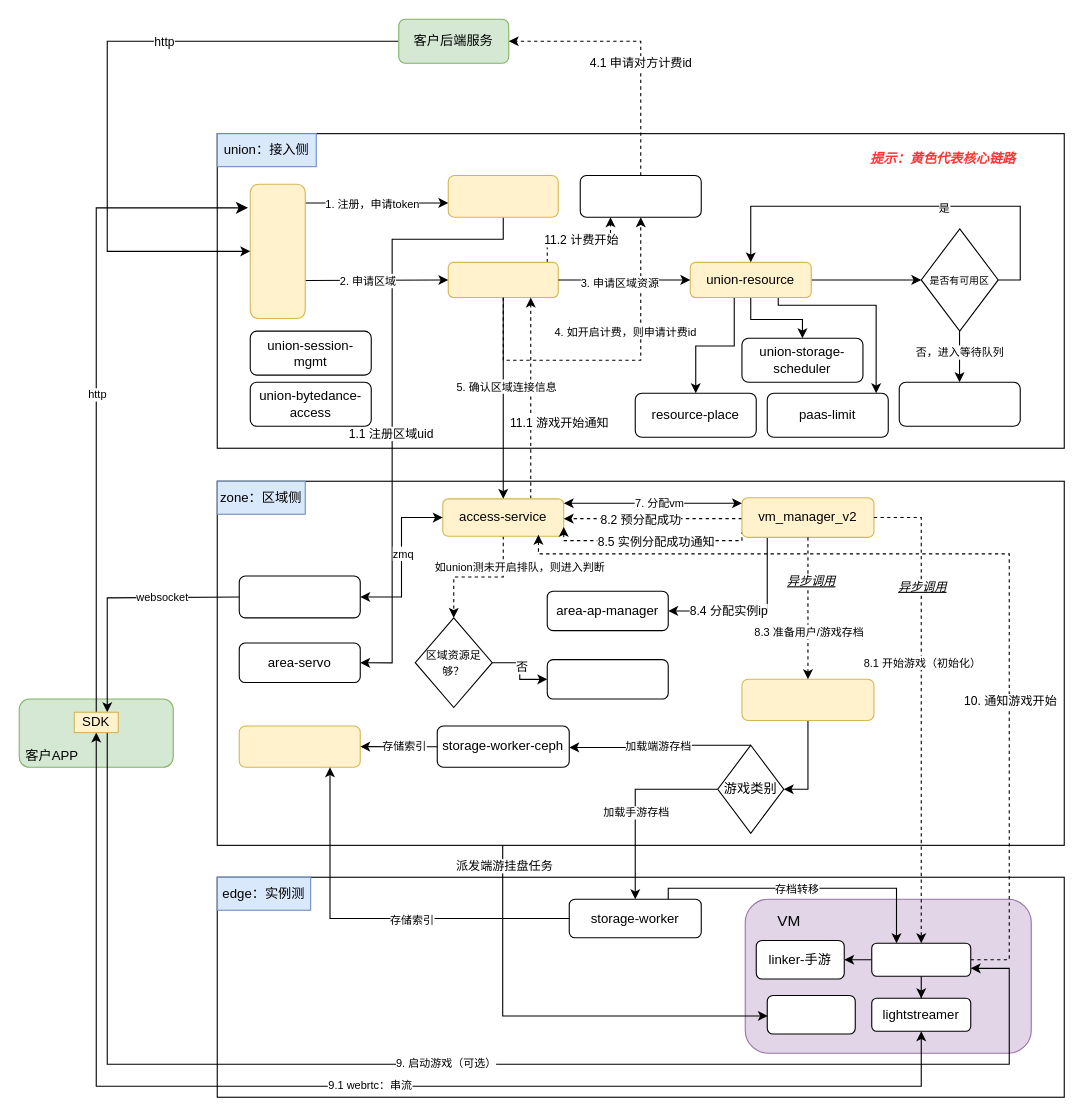
This 1084x1117 diagram has some shape labels left out. The shapes that lost their labels are listed below. From the top down, each one's centre as x and y in pixels, then its label:
the point at 502,195: union-servo
the point at 640,195: charge-manager
the point at 277,250: api-gateway
the point at 502,279: union-access
the point at 959,403: union-queue-server
the point at 299,596: access-proxy
the point at 607,679: 排队服务？
the point at 807,699: storage_scheduler
the point at 299,746: storage_index
the point at 921,959: gsmonitor
the point at 810,1014: storage-vm-worker
